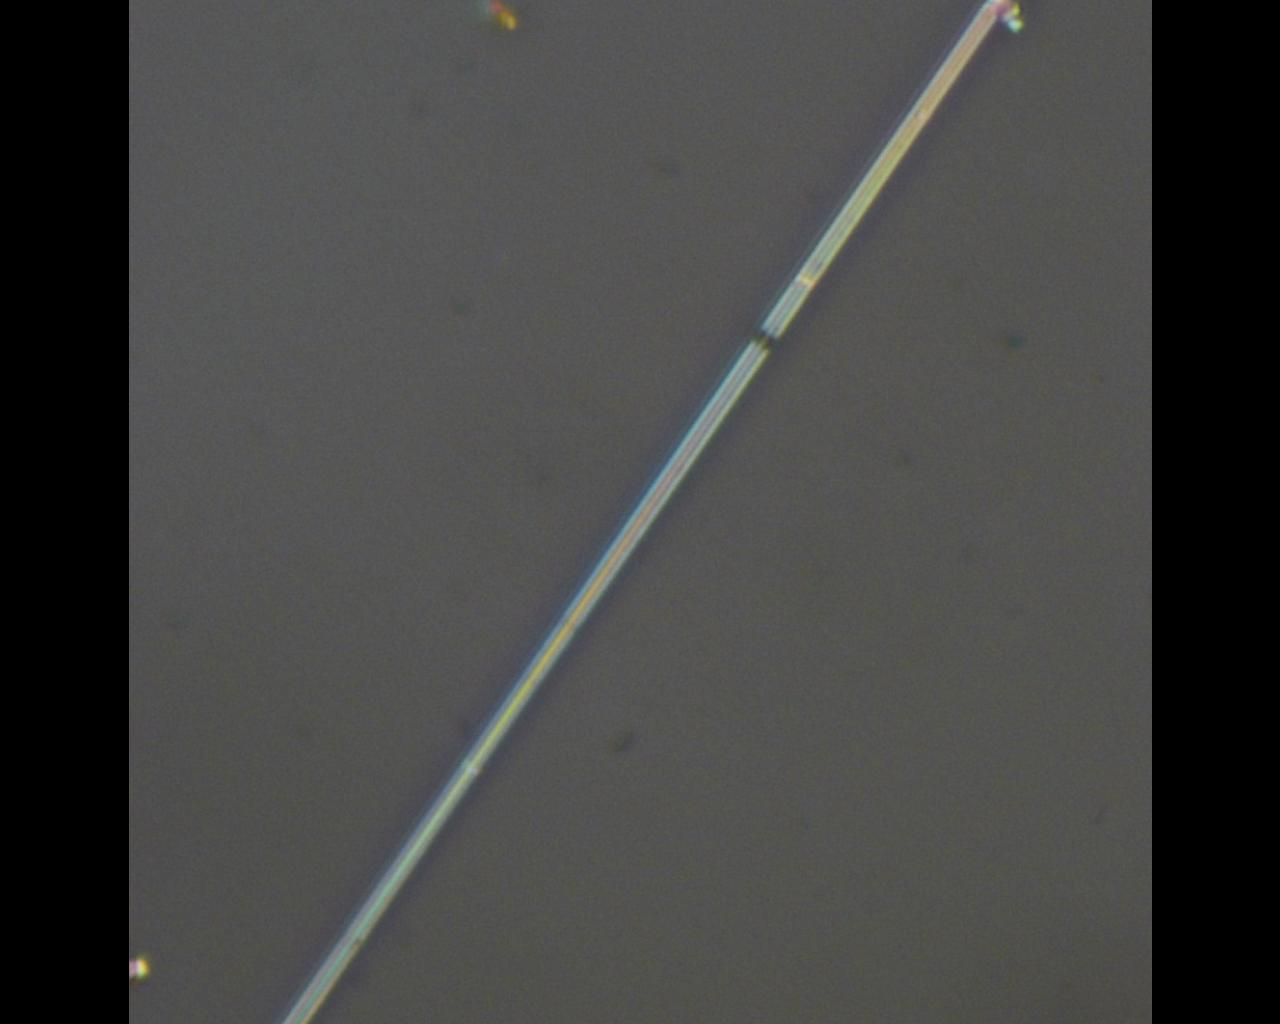fiber: (735, 662, 1280, 1024), (637, 0, 766, 501)
